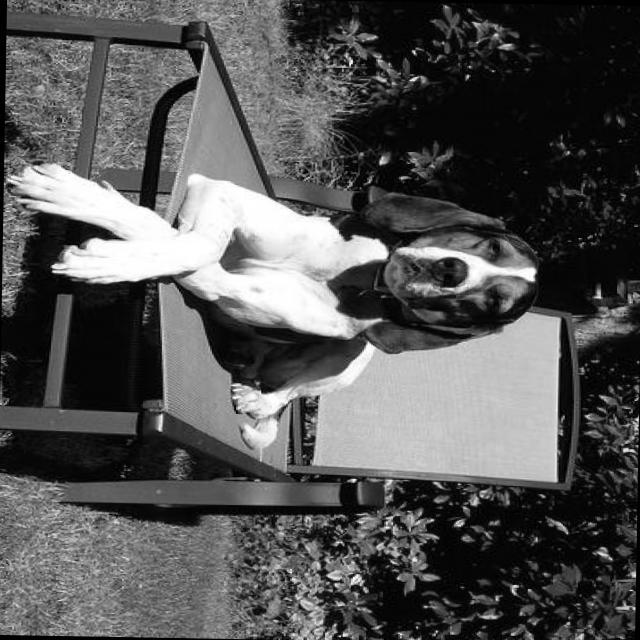laying down: (0, 153, 552, 457)
